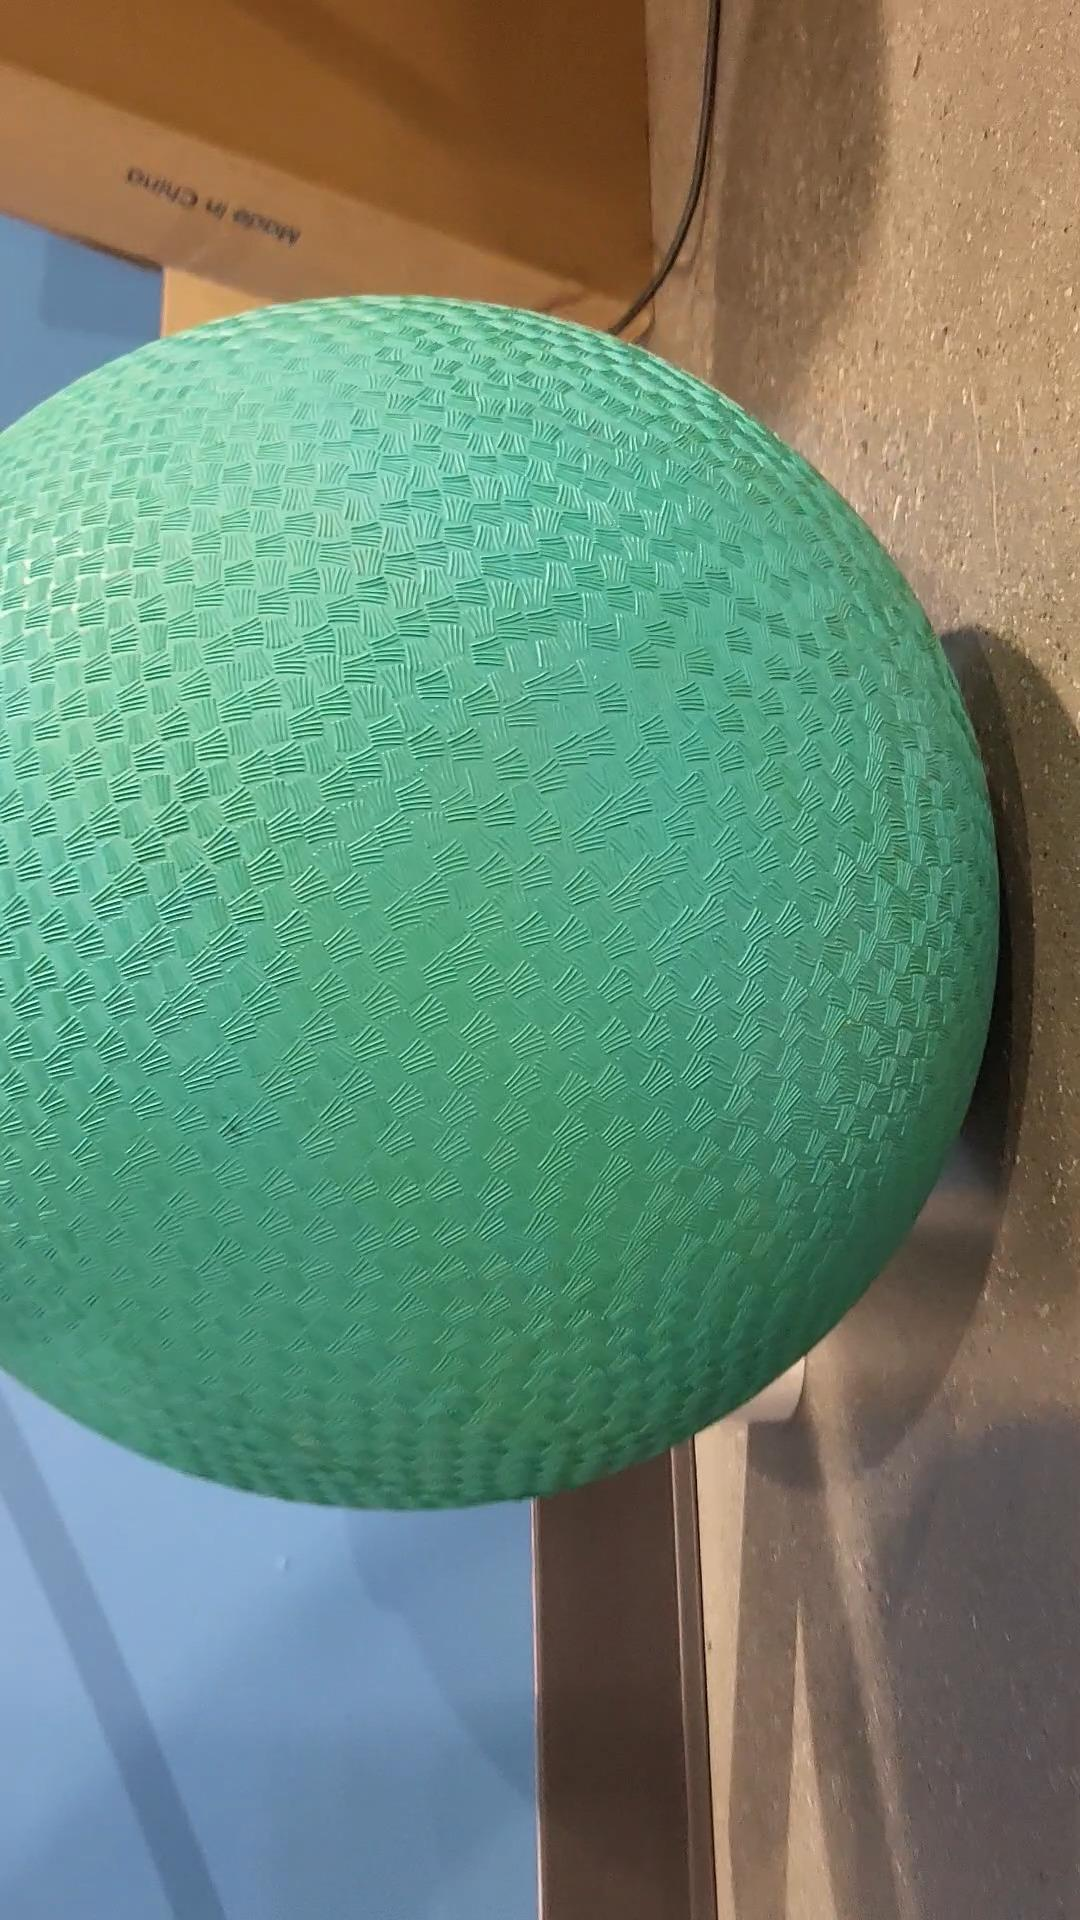algae: (0, 277, 1000, 1520)
